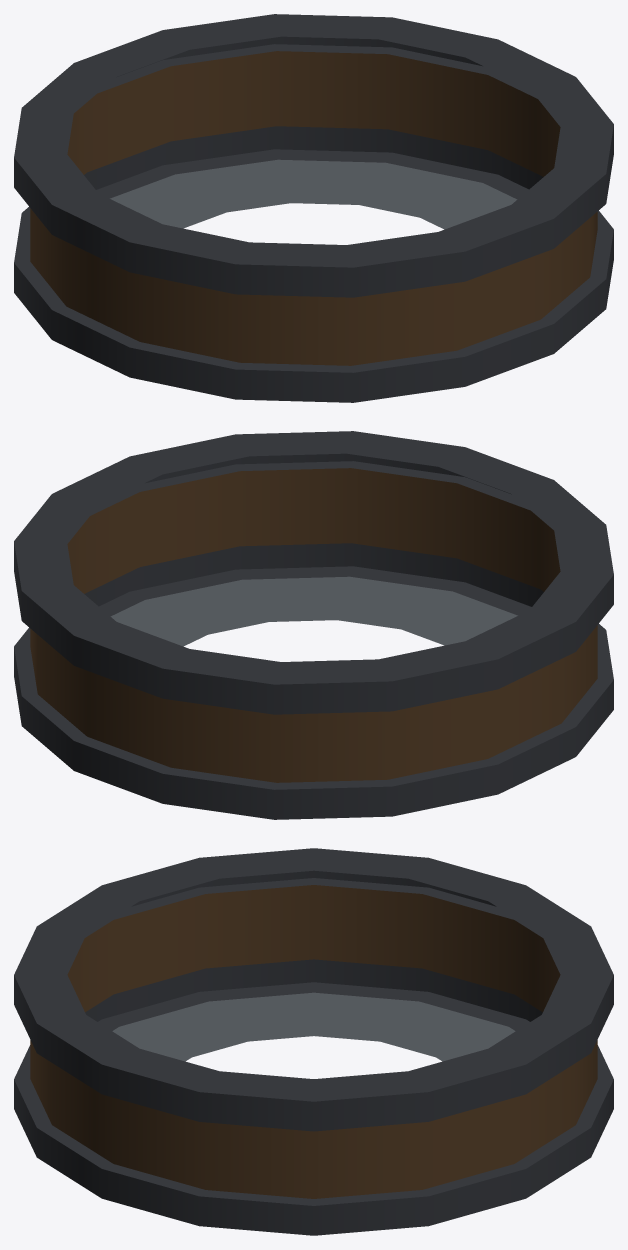
The model's file is fcrcs_coil.obj.
3 views of the same model, one above another, from view 1: azimuth 30°, elevation 25°; view 2: azimuth 150°, elevation 25°; view 3: azimuth 270°, elevation 25° (orthographic).
Visible parts, largest first — view 1: fcrcs_coil; view 2: fcrcs_coil; view 3: fcrcs_coil.
Boxes of the visible parts, x1,y1,x2,y2 form: fcrcs_coil: [14, 14, 613, 402]; fcrcs_coil: [14, 431, 613, 819]; fcrcs_coil: [14, 848, 613, 1235].
Bounding box in the file's own units: 0.73 × 0.18 × 0.73.
